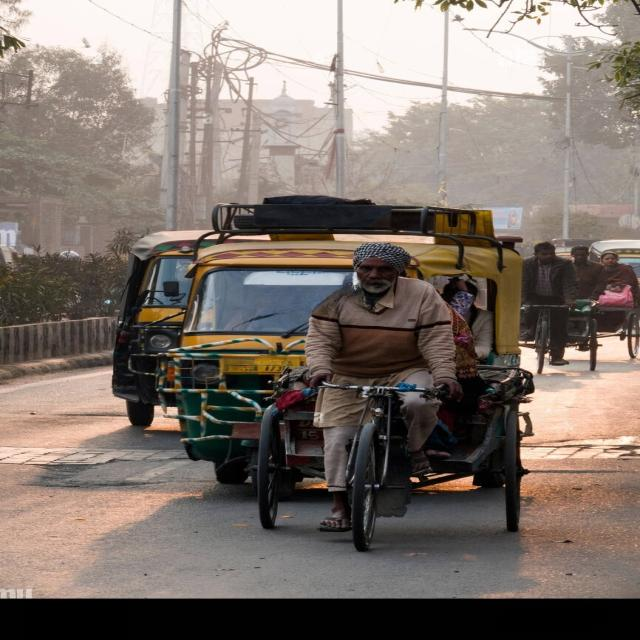autorickshaw: (156, 196, 522, 482), (112, 231, 201, 422)
bicycle: (253, 242, 534, 551)
